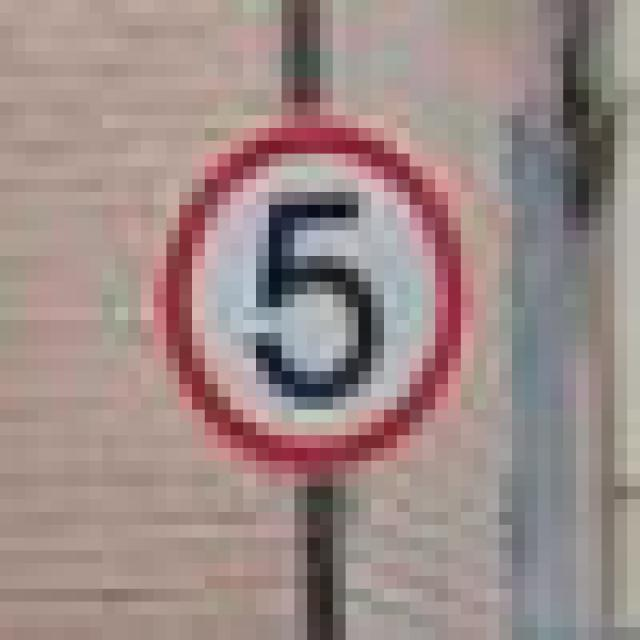speed_limit_20: (141, 102, 461, 461)
